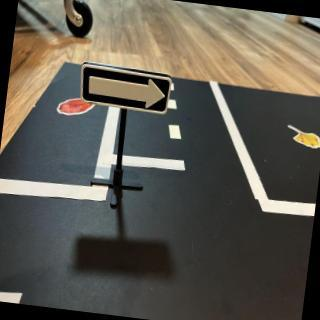sign_oneway_right: (77, 63, 174, 116)
